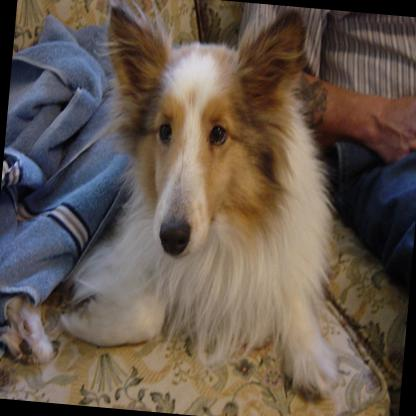Shetland_sheepdog: (0, 0, 367, 403)
